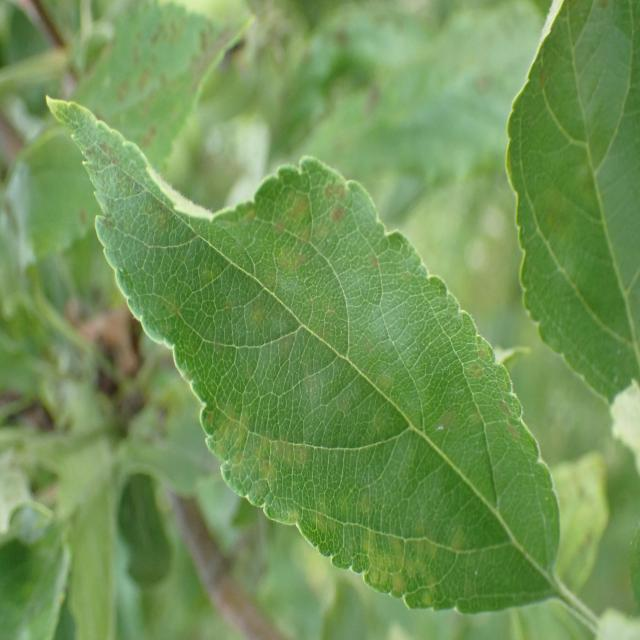scab: (85, 116, 522, 629), (521, 0, 639, 383), (36, 4, 242, 175)
